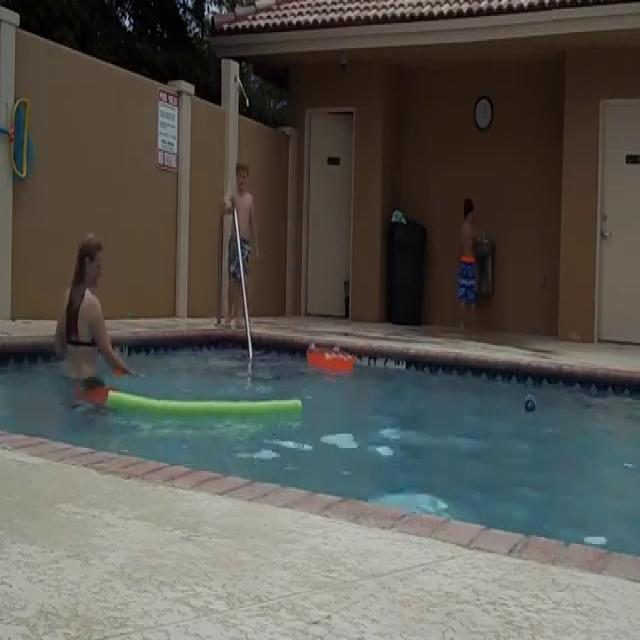adult: (58, 237, 138, 420)
child: (221, 156, 258, 327), (456, 193, 490, 337)
